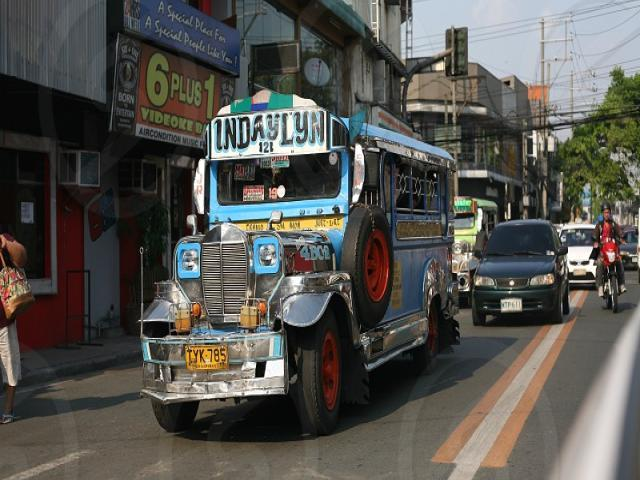jeepney: (143, 107, 457, 433)
